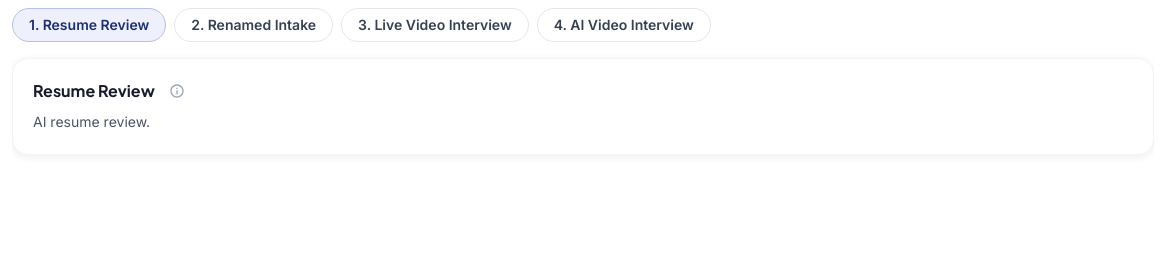
ViewInterviewRounds › lists the intake questions for the Intake round even after it was renamed
Click the button "2. Renamed Intake": (254, 25) [174, 8, 333, 42]
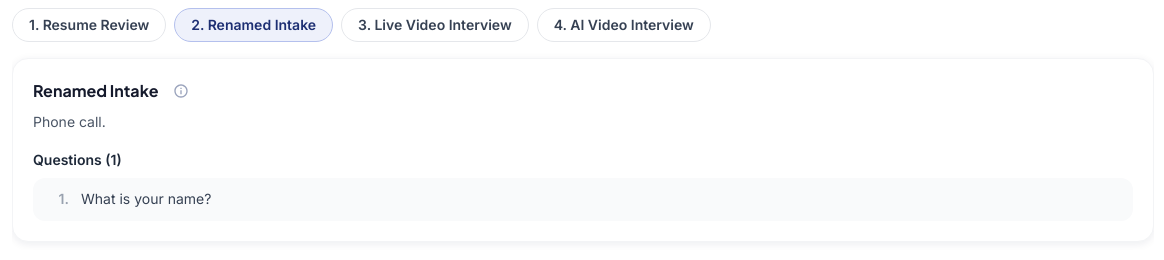
Now the text "Questions (1)" is shown, box [33, 151, 122, 168]
Now the text "What is your name?" is shown, box [81, 190, 211, 207]
